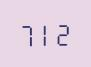one: (37, 20, 54, 46)
seven: (18, 20, 35, 47)
two: (55, 19, 72, 46)
